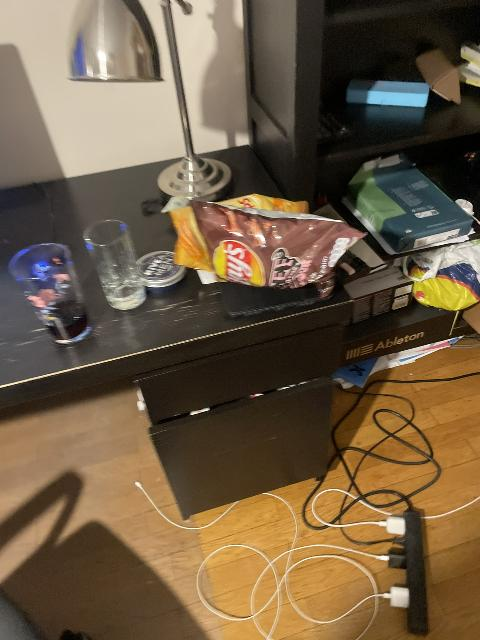Chio Hula Hoops Cheese 70g: (169, 194, 309, 270)
Lays Beef Grilled Ribs 125g: (186, 198, 367, 299)
